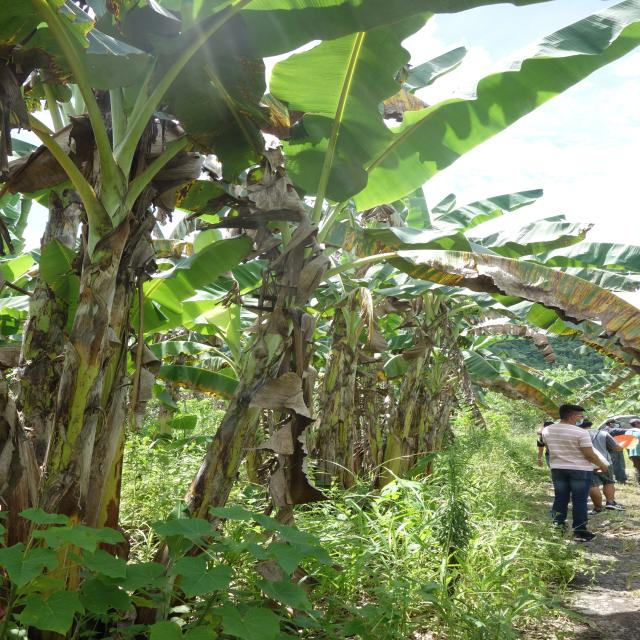Banana-plant: (9, 144, 169, 587), (176, 223, 344, 545)
